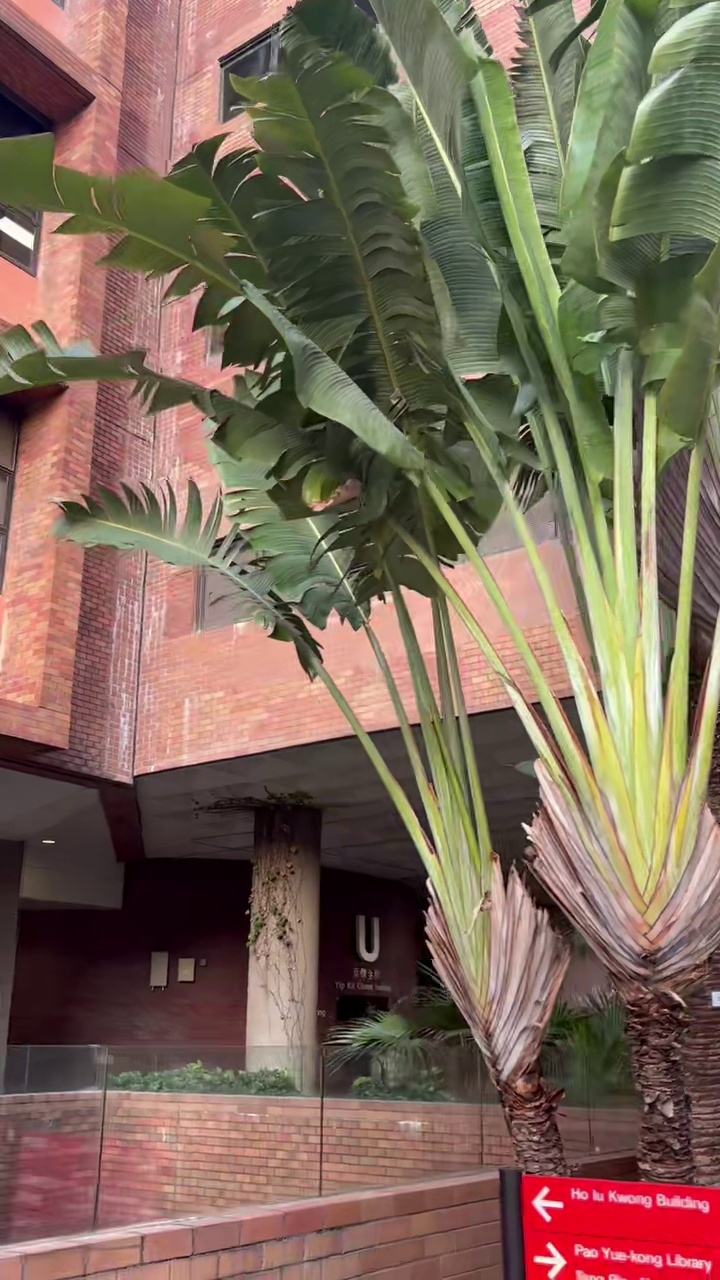Travellers-tree: (0, 0, 719, 1170)
